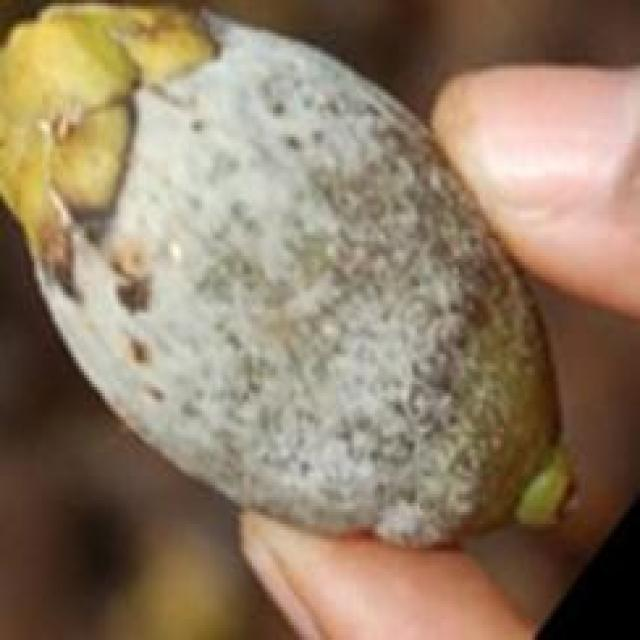damaged: (0, 6, 556, 542)
